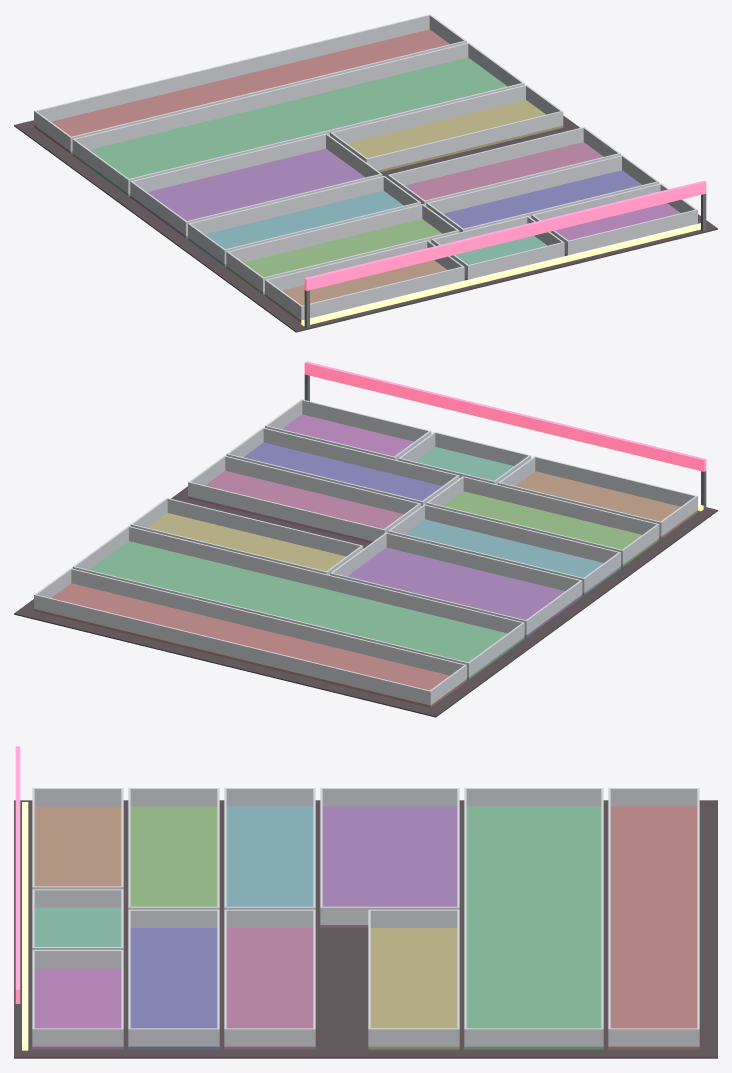
The model's file is hall-divers.glb.
3 views of the same model, one above another, from view 1: azimuth 30°, elevation 25°; view 2: azimuth 150°, elevation 25°; view 3: azimuth 270°, elevation 25° (orthographic). The views are drawn at different scales.
Parts seen in each view (by area): view 1: Commercial Divers; view 2: Commercial Divers; view 3: Commercial Divers.
Boxes of the visible parts, left/top/right/bottom form: Commercial Divers: left=14, top=14, right=717, bottom=332; Commercial Divers: left=14, top=361, right=717, bottom=717; Commercial Divers: left=14, top=746, right=717, bottom=1058.
Bounding box in the file's own units: 38 × 4.3 × 44.
